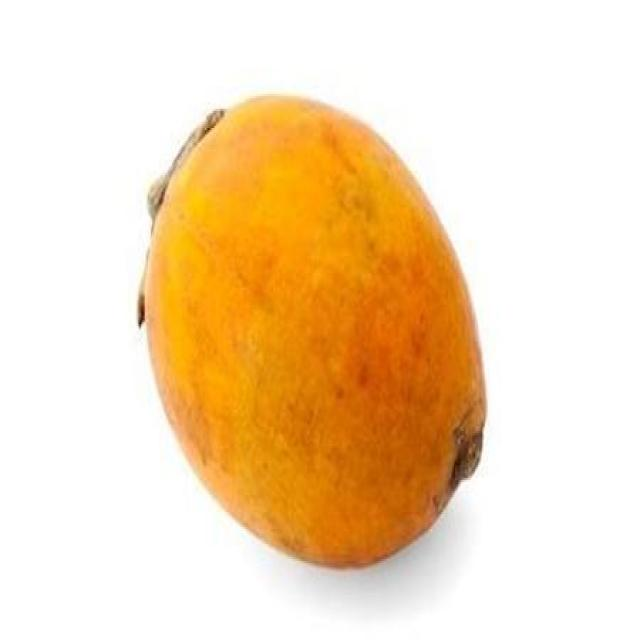good: (141, 94, 488, 572)
